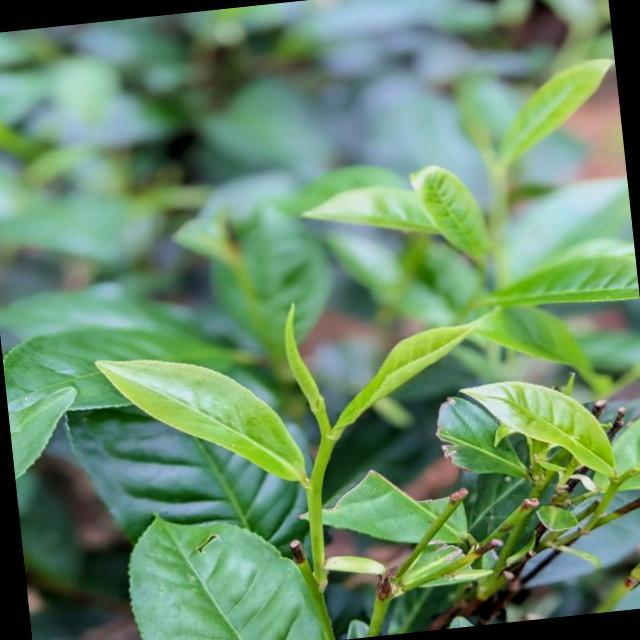Stem: (307, 479, 322, 493)
